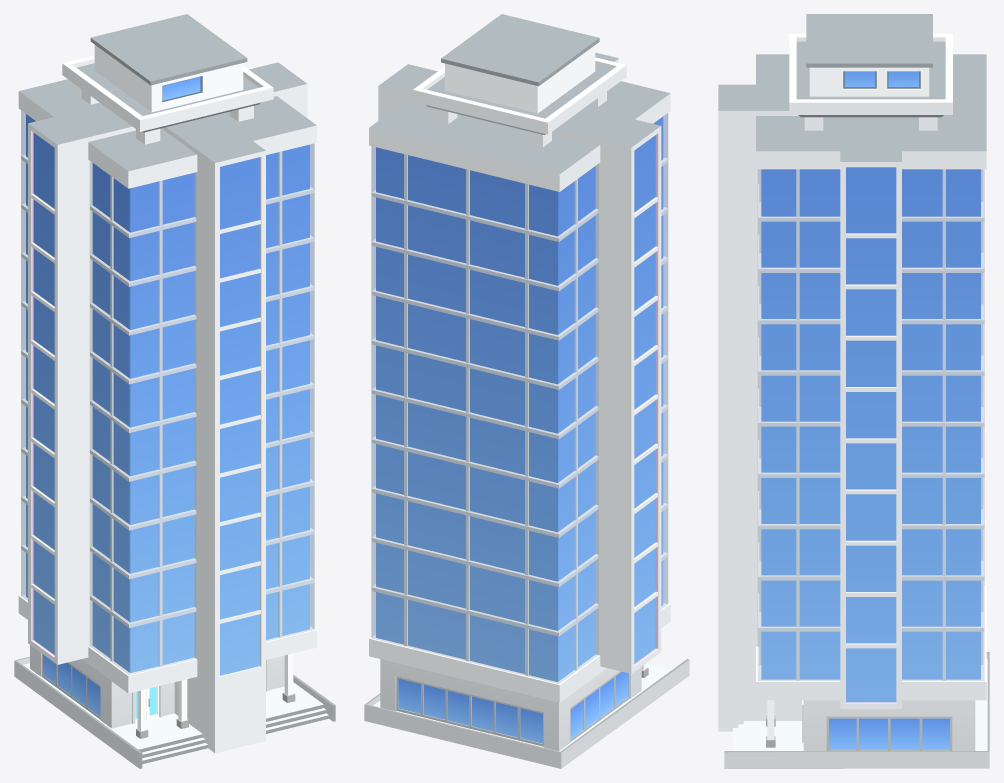
Rendered from Building_Business_03.glb.
3 views of the same model, side by side, from view 1: azimuth 30°, elevation 25°; view 2: azimuth 150°, elevation 25°; view 3: azimuth 270°, elevation 25° (orthographic). The views are drawn at different scales.
Visible parts, largest first — view 1: Building_Business_03; view 2: Building_Business_03; view 3: Building_Business_03.
Boxes of the visible parts, x1,y1,x2,y2 form: Building_Business_03: [14, 14, 335, 768]; Building_Business_03: [364, 14, 689, 768]; Building_Business_03: [718, 14, 989, 768].
Size of the model in its own units: 16.86 by 41.65 by 15.07.
Materials: 2 (2 with a texture image).
